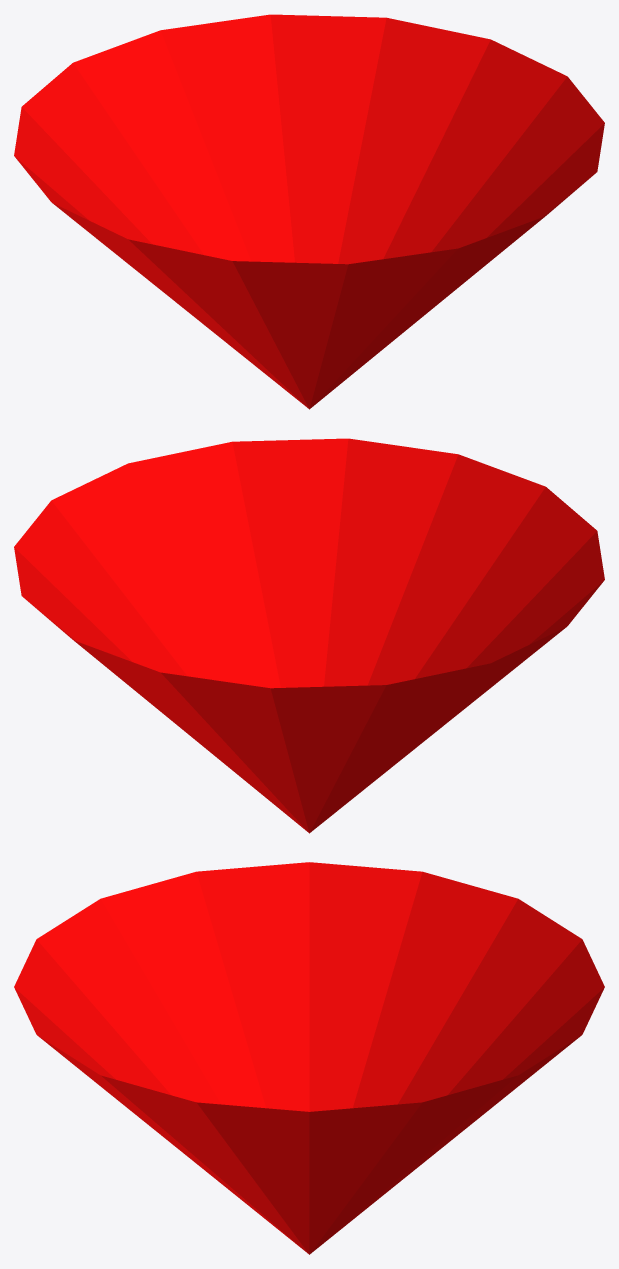
File: unit_cone_red.dae
3 views of the same model, one above another, from view 1: azimuth 30°, elevation 25°; view 2: azimuth 150°, elevation 25°; view 3: azimuth 270°, elevation 25° (orthographic).
Visible parts, largest first — view 1: Cone; view 2: Cone; view 3: Cone.
Part boxes in pixels (x1,y1,x2,y2): Cone: (14, 14, 604, 409); Cone: (14, 438, 604, 833); Cone: (14, 862, 604, 1254).
Size of the model in its own units: 2 by 2 by 1.
